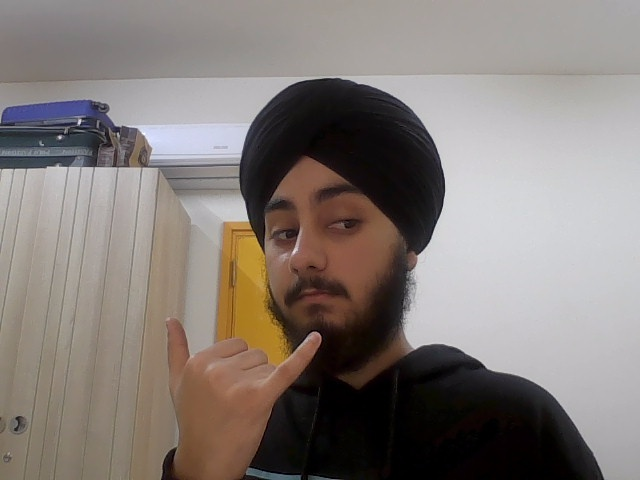Wrong: (160, 309, 331, 480)
